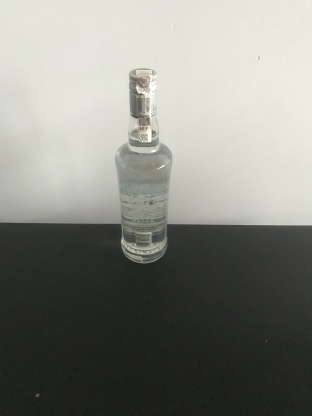nakretka: (127, 66, 159, 118)
